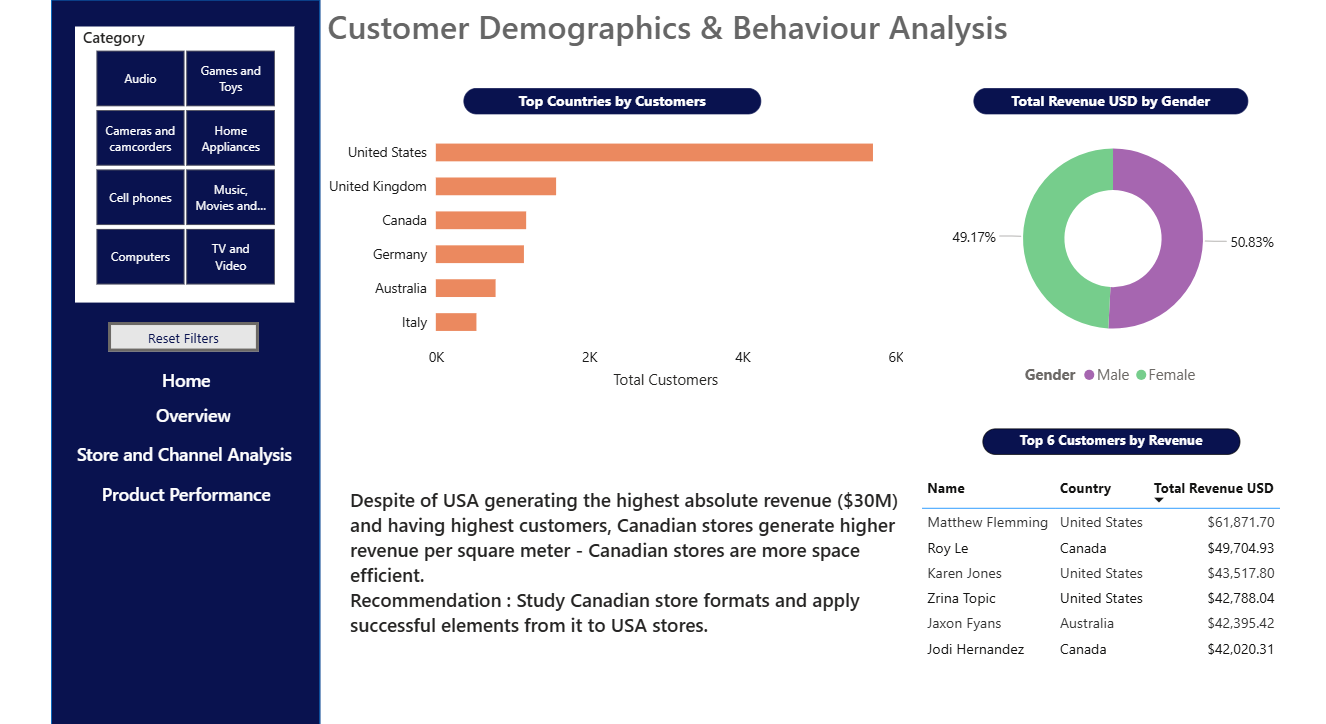

The page's visual inventory and layout, read from the dashboard file:
{"tool":"powerbi","page":{"name":"Customer Demographics","canvas":[1280,720],"ordinal":4},"visuals":[{"type":"textbox","box":[267.5,0,745,57.5],"z":0},{"type":"clusteredBarChart","fields":{"Category":["Customers.Country"],"Y":["Measure.Total Customers"]},"box":[260.4,116.6,586,274.1],"z":1000},{"type":"textbox","box":[407.3,89.3,293.8,25.7],"z":2000},{"type":"donutChart","fields":{"Category":["Customers.Gender"],"Y":["Measure.Total Revenue USD"]},"box":[857,115.1,381.6,274.1],"z":3000},{"type":"textbox","box":[911.6,89.3,271,25.7],"z":4000},{"type":"shape","box":[0,1.5,266,719],"z":5000},{"type":"tableEx","fields":{"Values":["Customers.Name","Customers.Country","Measure.Total Revenue USD"]},"box":[844.9,464.9,393.7,215],"z":6000},{"type":"textbox","box":[920.6,425.5,254.4,25.7],"z":7000},{"type":"slicer","fields":{"Values":["Products.Category"]},"box":[24.2,28.8,216.5,272.6],"z":8000},{"type":"actionButton","box":[40.9,476.4,184.1,24.8],"z":9000},{"type":"actionButton","box":[93.5,363.9,80.4,26.3],"z":10000},{"type":"actionButton","box":[16.1,438.4,230.9,23.4],"z":11000},{"type":"actionButton","box":[24.8,399,230.9,26.3],"z":12000},{"type":"textbox","box":[290.8,476.4,553.9,169.5],"z":13000},{"type":"actionButton","box":[57,320.1,149.1,29.2],"z":14000}]}

Visuals, with their boxes on the page's 1280x720 design canvas (x1, y1, x2, y2). These are canvas units, not pixel positions in the 1326x724 screenshot, which may show the page scaled, cropped or inside an application window:
textbox: crop(268, 0, 1012, 58)
clusteredBarChart - Customers.Country x Measure.Total Customers: crop(260, 117, 846, 391)
textbox: crop(407, 89, 701, 115)
donutChart - Customers.Gender x Measure.Total Revenue USD: crop(857, 115, 1239, 389)
textbox: crop(912, 89, 1183, 115)
shape: crop(0, 2, 266, 720)
tableEx - Customers.Name x Customers.Country: crop(845, 465, 1239, 680)
textbox: crop(921, 426, 1175, 451)
slicer - Products.Category: crop(24, 29, 241, 301)
actionButton: crop(41, 476, 225, 501)
actionButton: crop(94, 364, 174, 390)
actionButton: crop(16, 438, 247, 462)
actionButton: crop(25, 399, 256, 425)
textbox: crop(291, 476, 845, 646)
actionButton: crop(57, 320, 206, 349)
